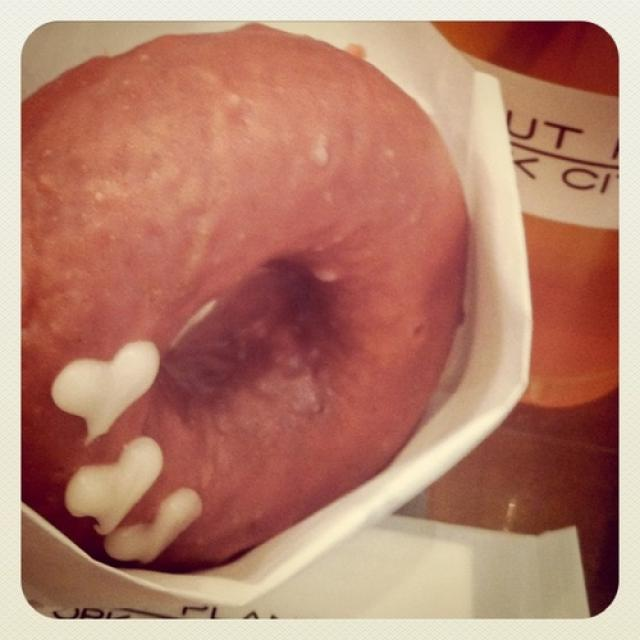炸货点心: (39, 28, 552, 581)
